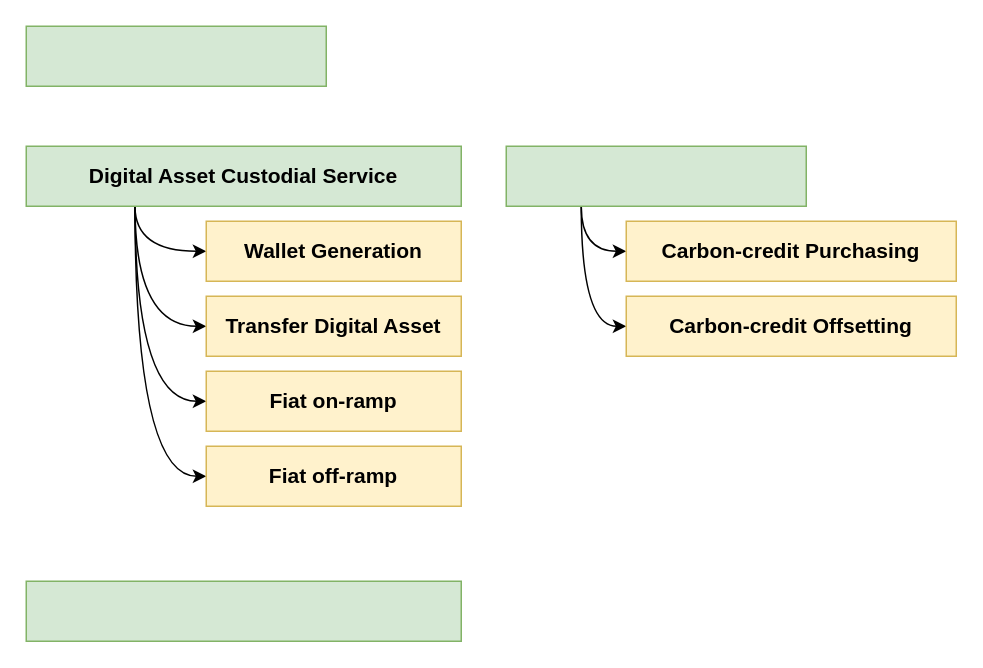
Some shapes in this 983 by 668 pixel diagram are drawn without their labels. Here are the shapes that lost their labels. From the top down, the centre of each, then its label:
At (175,55): "What Roxi can do?".
At (655,175): "Market-based Blockchain".
At (243,610): "Carbon Credit Registry System".
